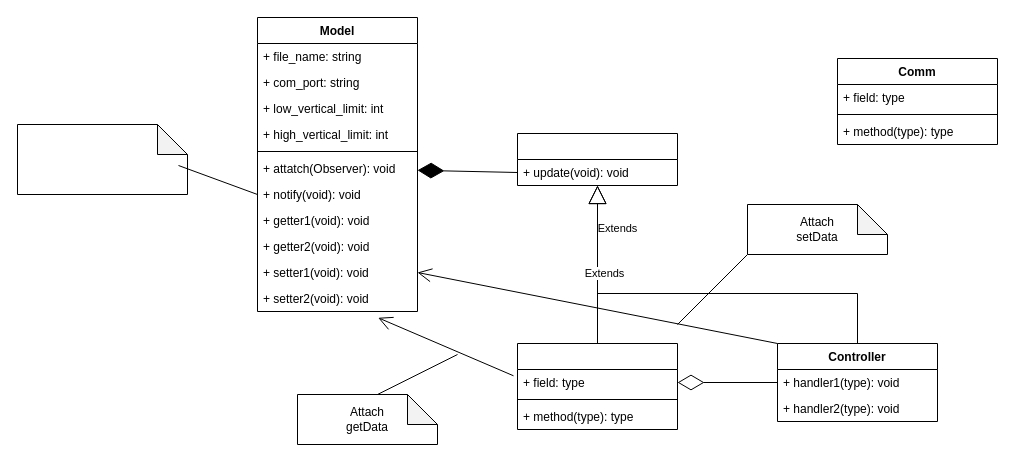
This 1015x462 diagram has some shape labels left out. Here are the shapes that lost their labels. From the top down, the box of each, then its label:
(16, 124, 188, 194): notify() { observers[i].update() }
(516, 132, 678, 186): Observer
(516, 342, 678, 430): View
